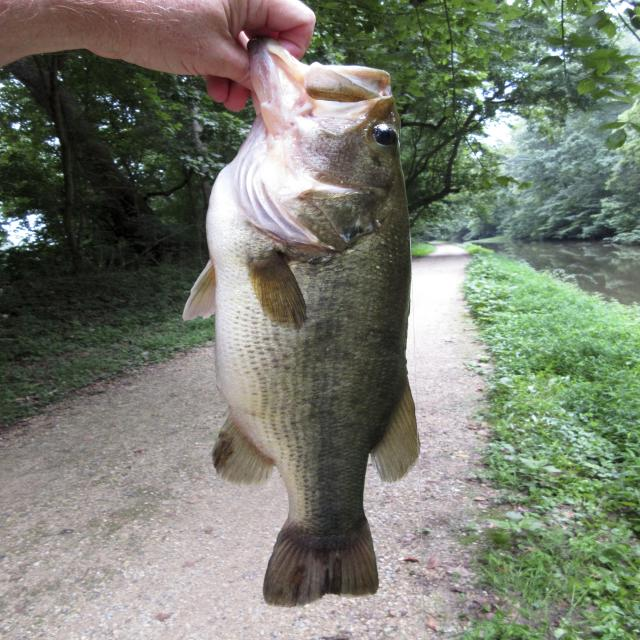Bass - Largemouth: (184, 38, 419, 606)
